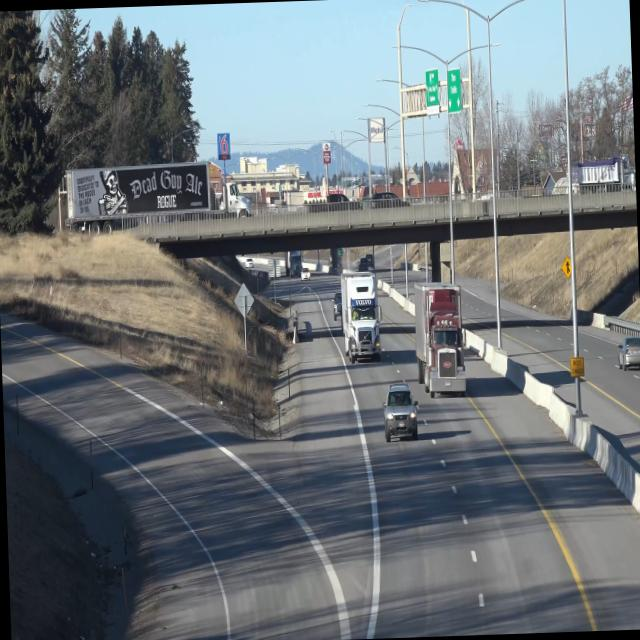Vehicle: (412, 277, 468, 401), (340, 267, 382, 361), (382, 382, 421, 444), (617, 332, 640, 374)
